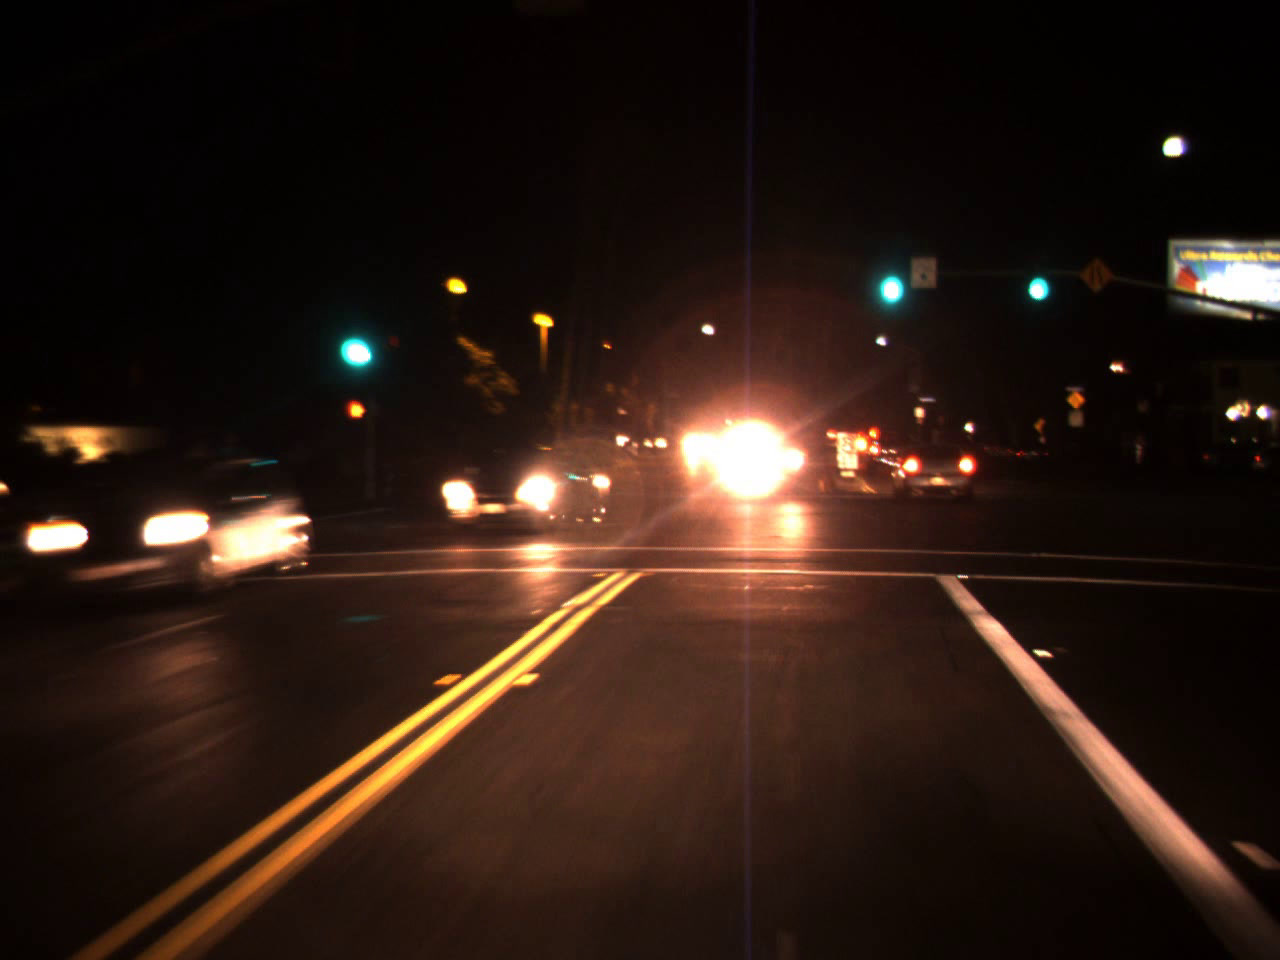go: (328, 298, 380, 379), (868, 239, 909, 314), (1021, 249, 1053, 309)
